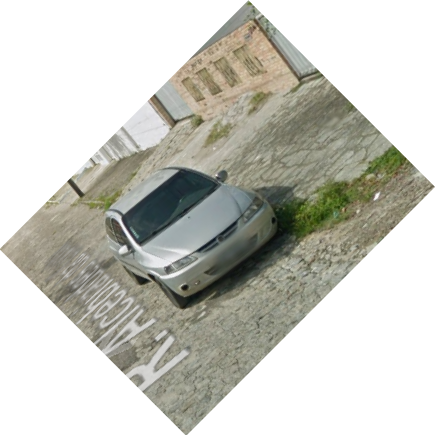car: (100, 161, 284, 315)
